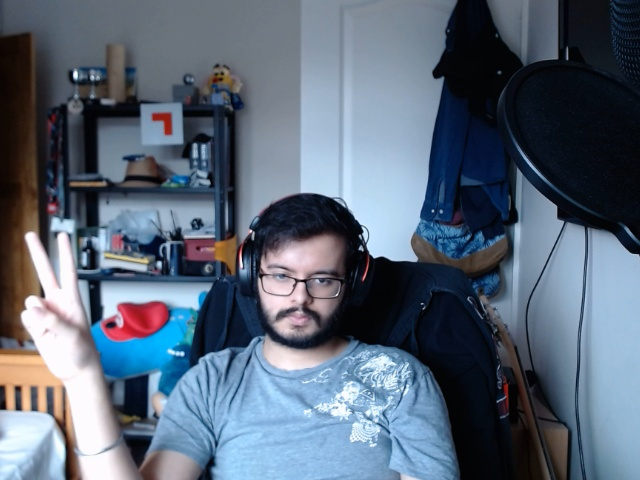Peace: (15, 217, 112, 405)
